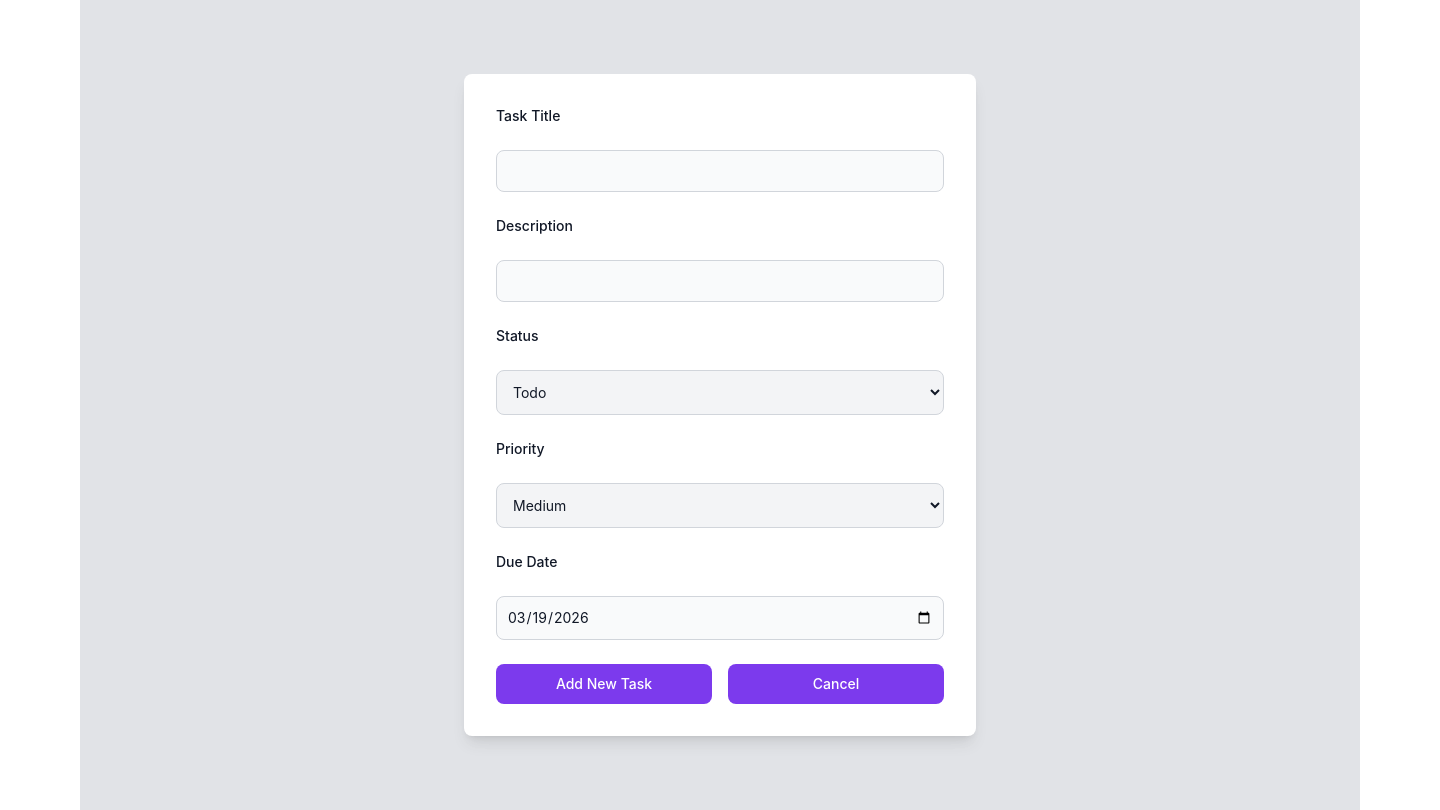
TaskForm component › displays server error message when task creation fails
This screenshot has width=1440, height=810.
Step 1. Type "Fix the bug" into the field labelled "Task Title" → [720, 171], box left=496, top=150, right=944, bottom=192
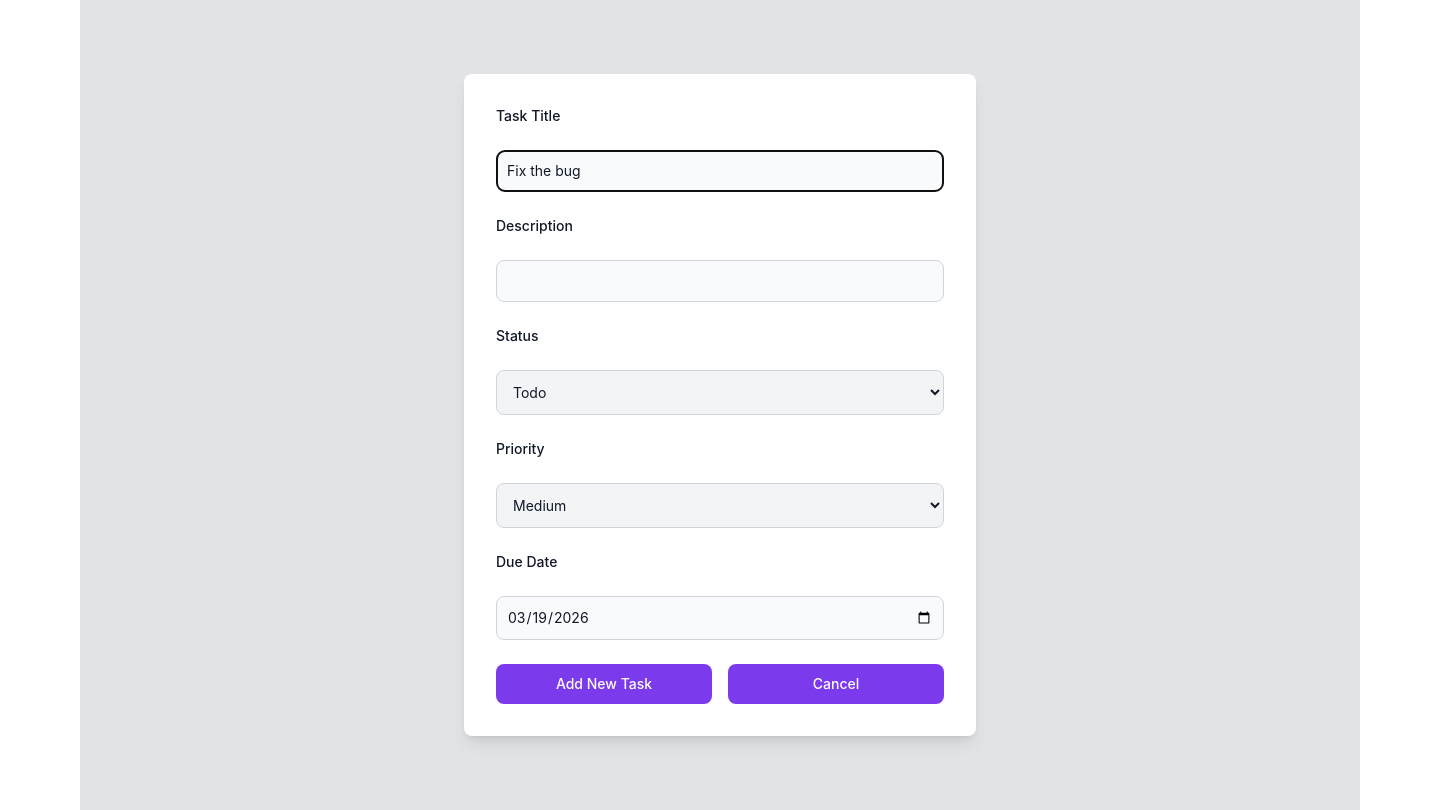
Step 2. Click the button "Add New Task" → [604, 684], box left=496, top=664, right=712, bottom=704
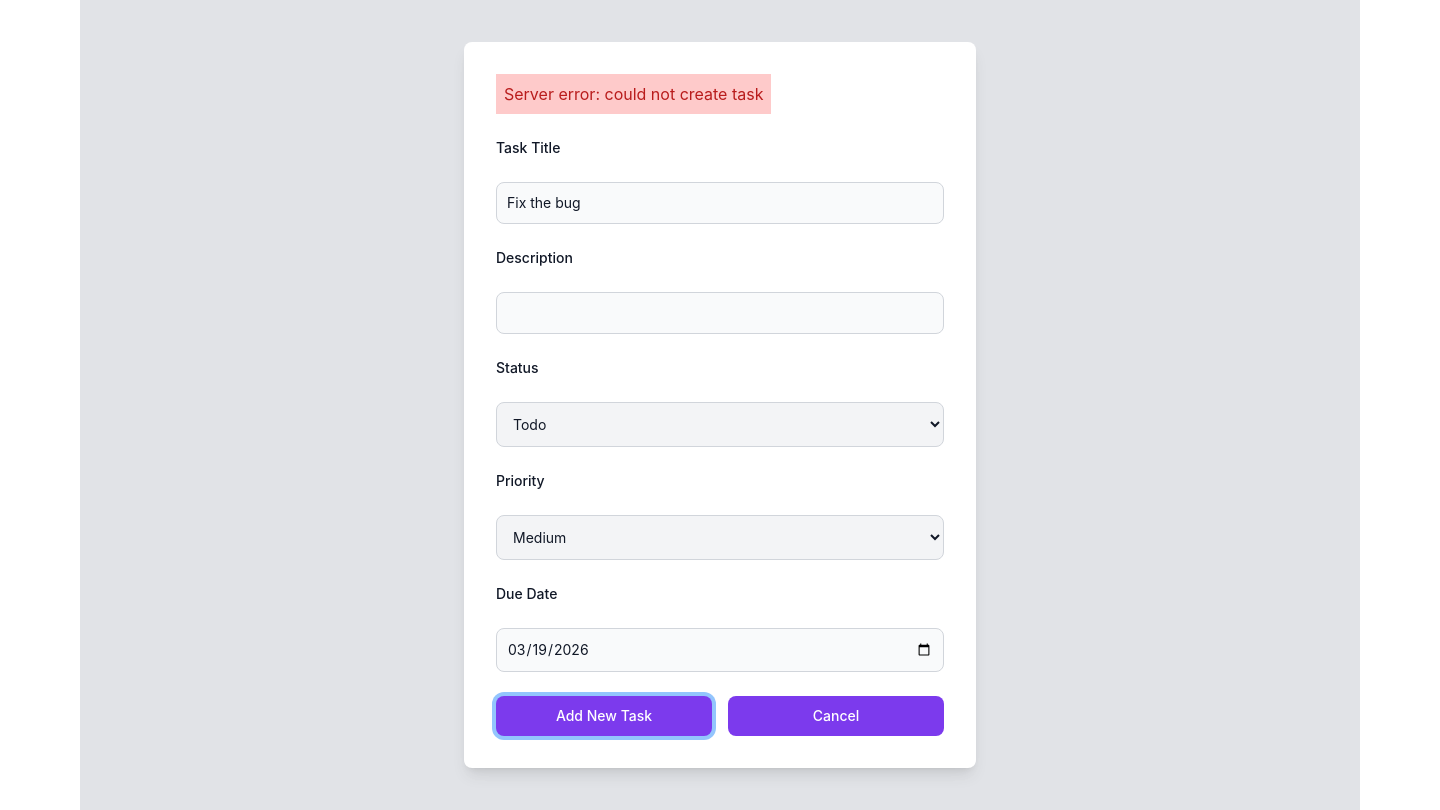
Result: the text "Server error: could not create task" is shown at left=496, top=74, right=771, bottom=114
